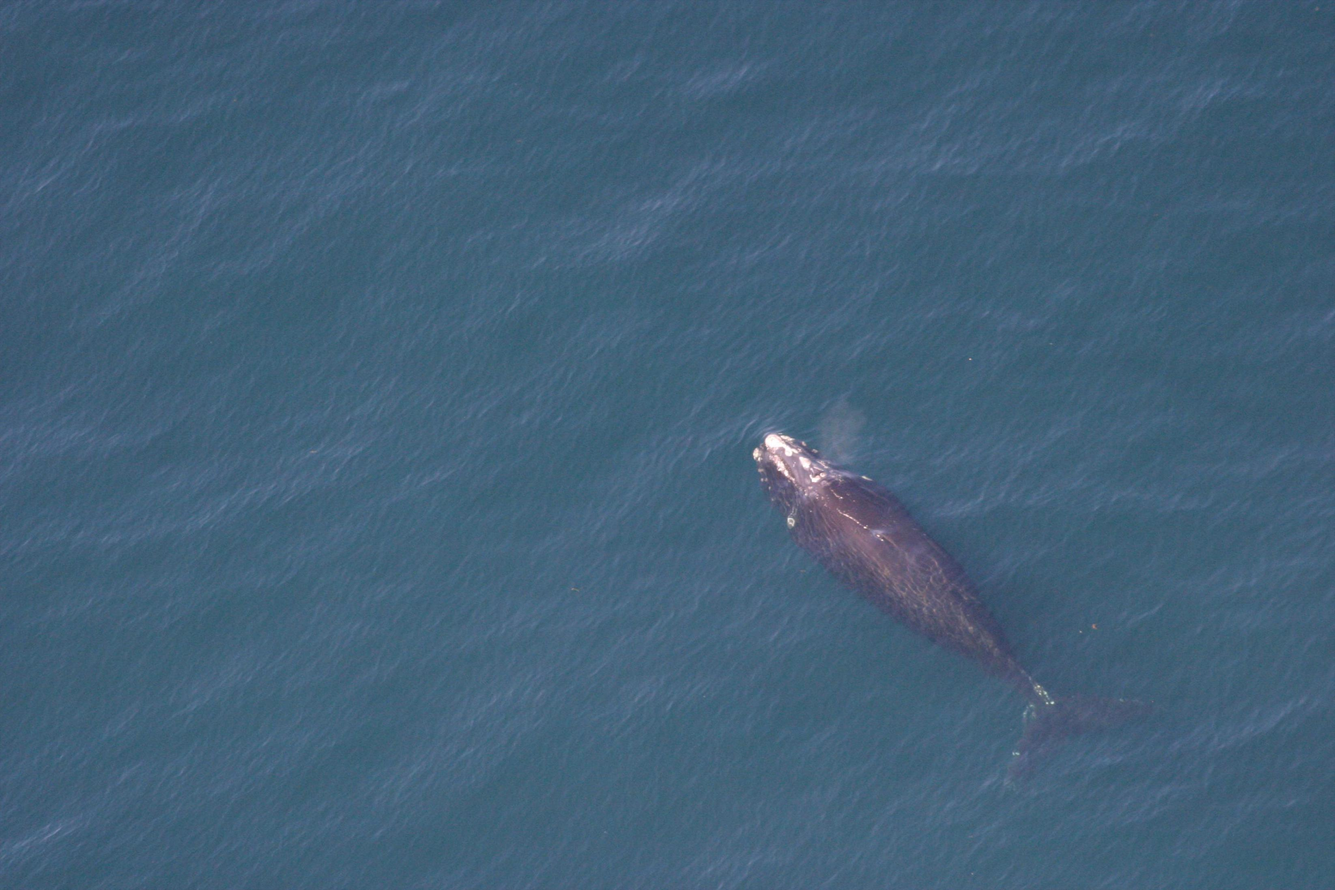whale: (744, 426, 1152, 801)
